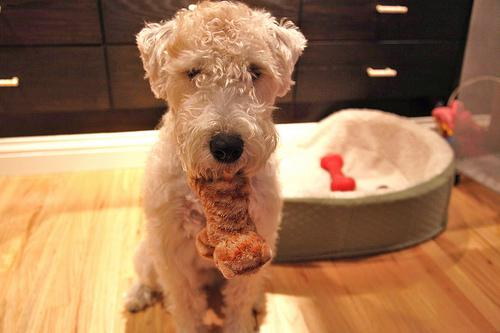dog: (135, 1, 305, 171)
